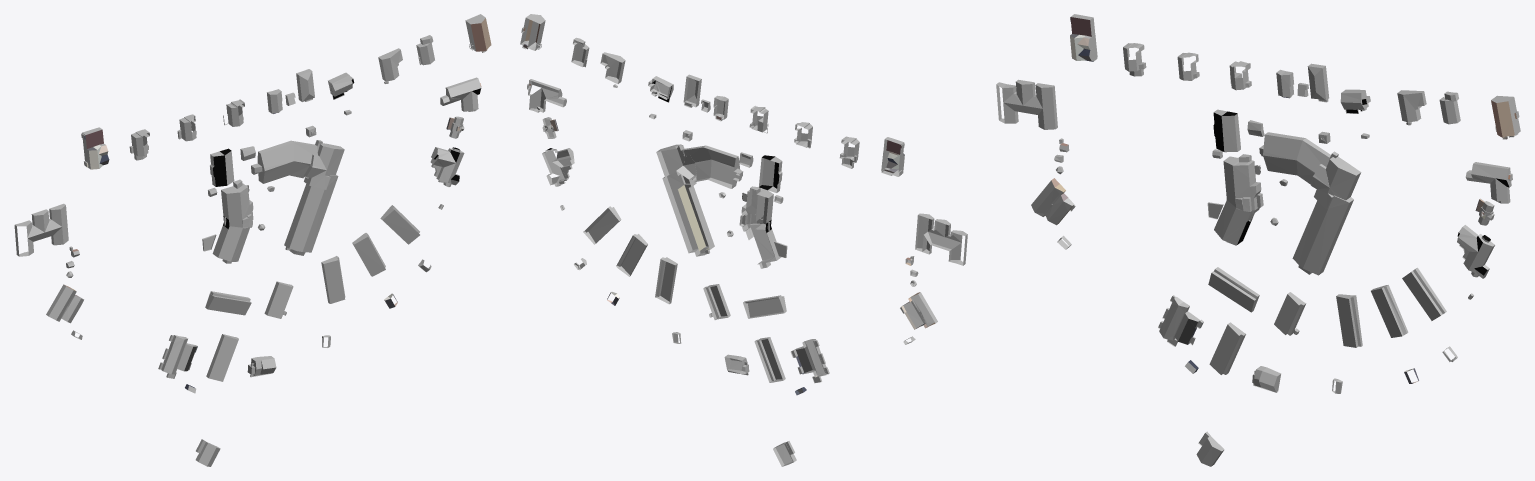
File: Bygning.obj
3 views of the same model, side by side, from view 1: azimuth 30°, elevation 25°; view 2: azimuth 150°, elevation 25°; view 3: azimuth 330°, elevation 25° (orthographic). The views are drawn at different scales.
Bounding box in the file's own units: 337 × 270 × 20.87.
